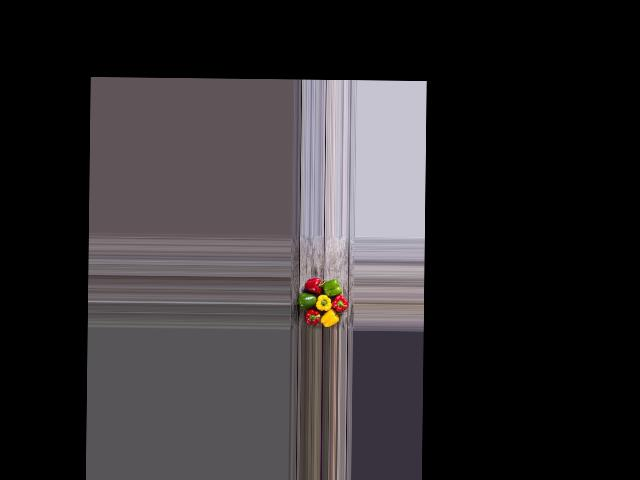bell_pepper: (304, 309, 323, 328)
